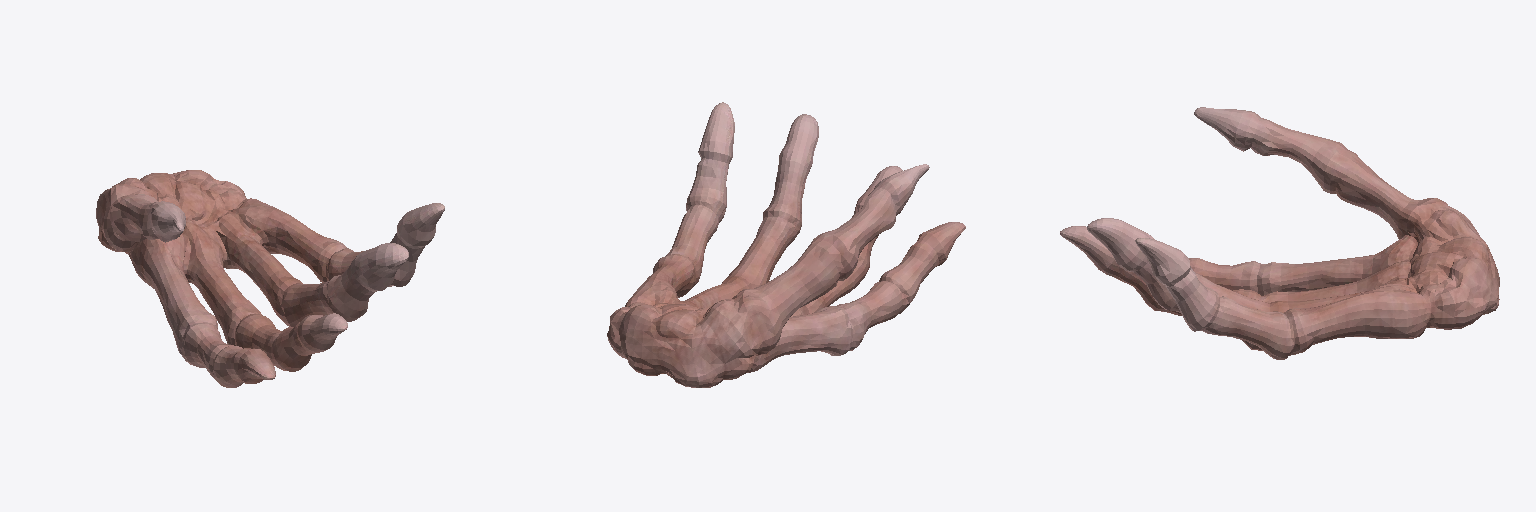
3 renders of one model, left to right at view 1: azimuth 30°, elevation 25°; view 2: azimuth 150°, elevation 25°; view 3: azimuth 270°, elevation 25°, orthographic.
Visible parts, largest first — view 1: Group36021; view 2: Group36021; view 3: Group36021.
Boxes of the visible parts, box(x1,y1,x2,y2) form: Group36021: box(96, 170, 444, 387); Group36021: box(607, 102, 965, 387); Group36021: box(1060, 107, 1499, 359).
Size of the model in its own units: 0.8353 by 0.6035 by 1.31.
Materials: 1 (1 with a texture image).